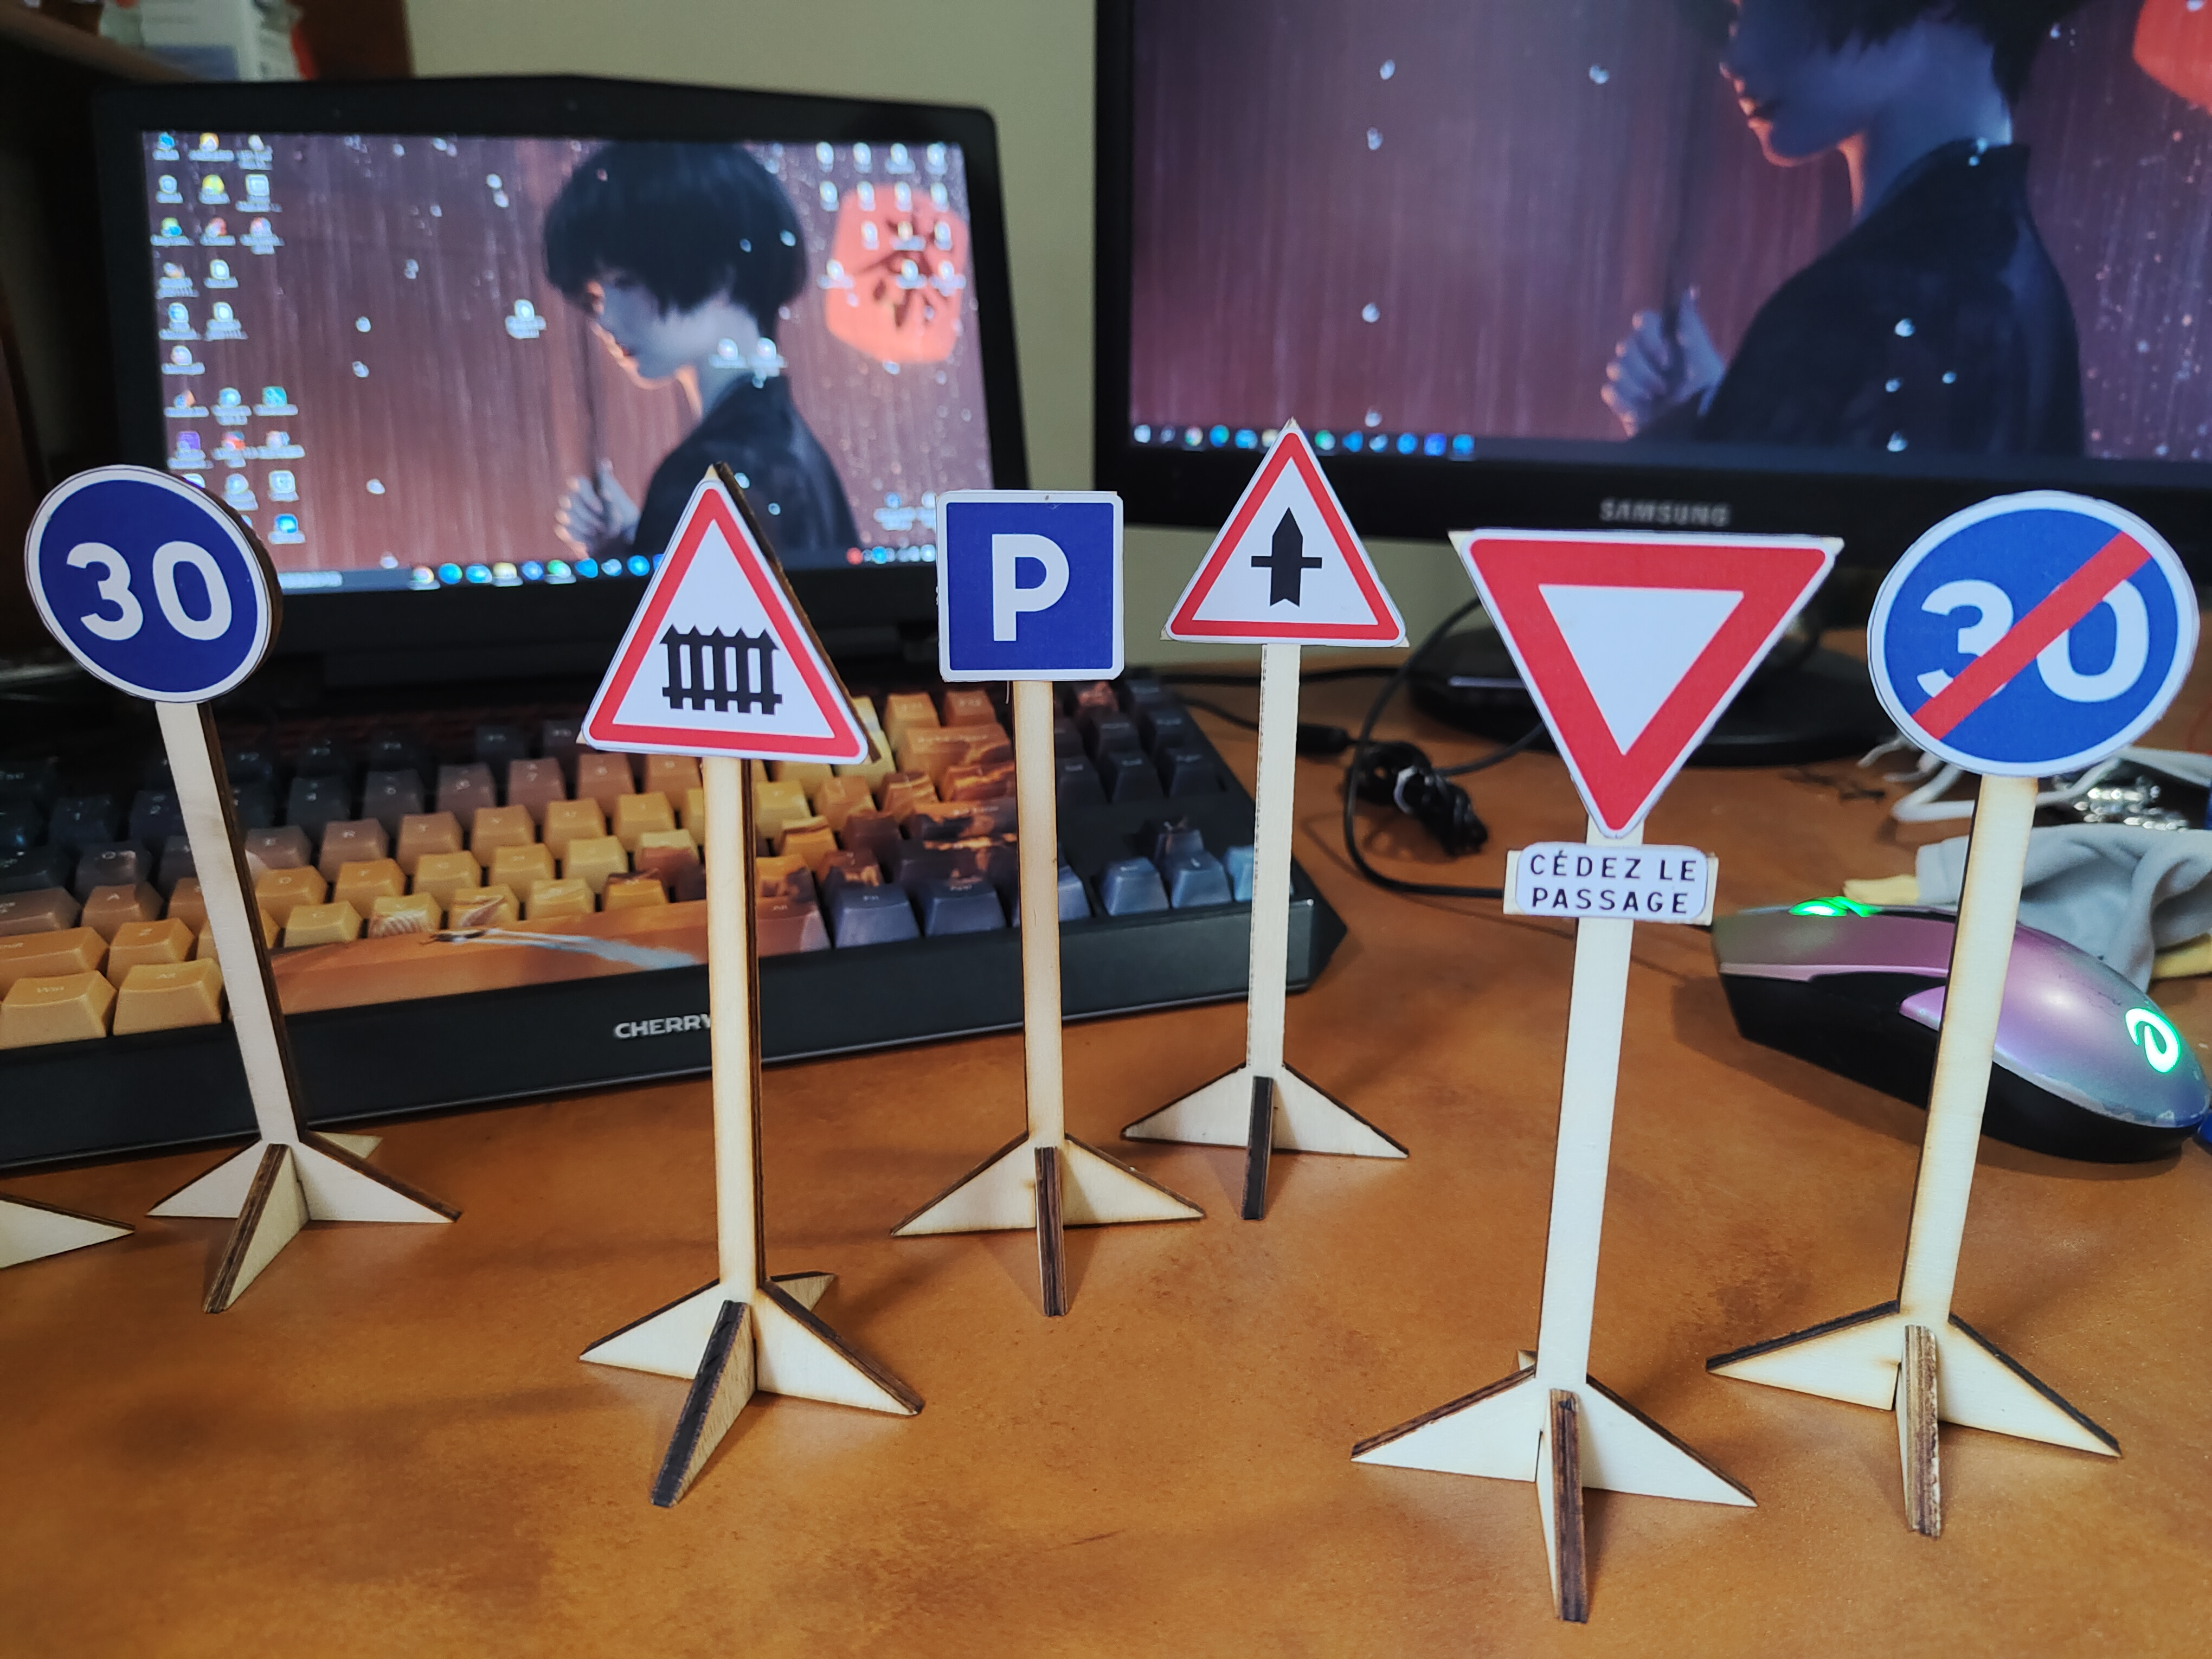P: (935, 481, 1130, 683)
ban: (1872, 493, 2193, 791)
second: (1446, 521, 1836, 931)
straight: (1176, 425, 1397, 650)
thirty: (19, 460, 279, 706)
train: (578, 471, 871, 769)
